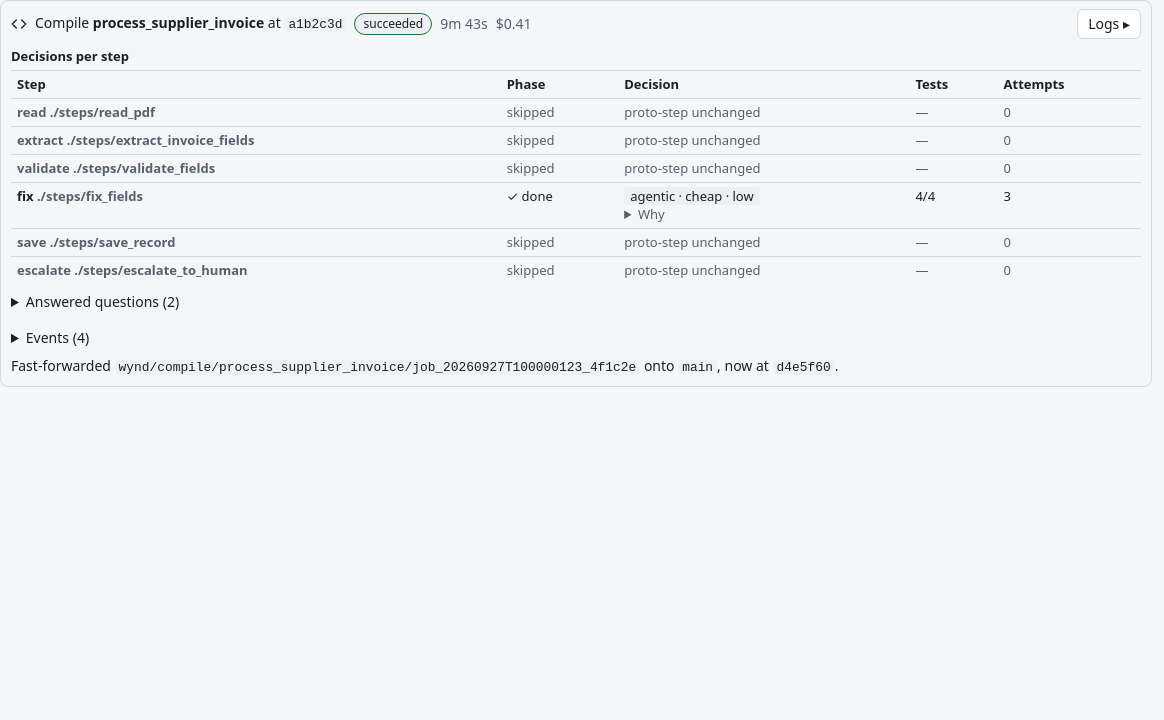
it: CompileSessionView › lists pending questions first and folds answered ones away
Click the heading "Answered questions (2)" at (102, 301), box [26, 292, 179, 311]
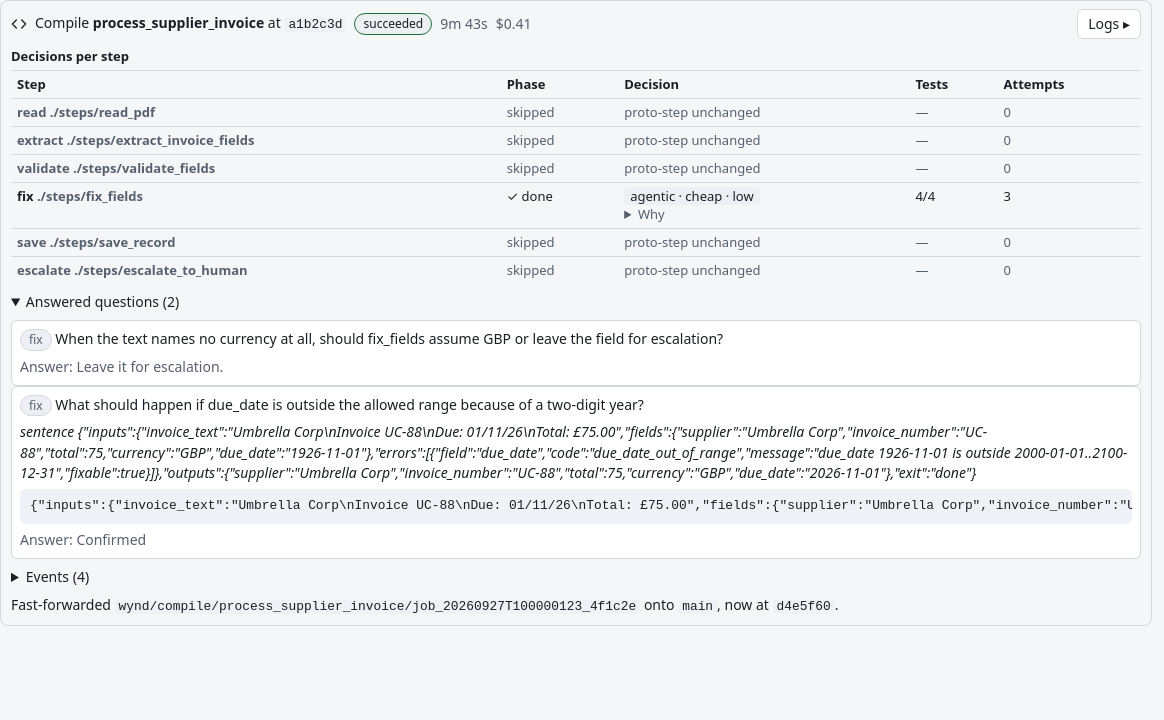
Result: the text "Answer: Leave it for escalation." is shown at [20, 357, 223, 376]
Result: the text "Answer: Confirmed" is shown at [20, 530, 146, 549]
